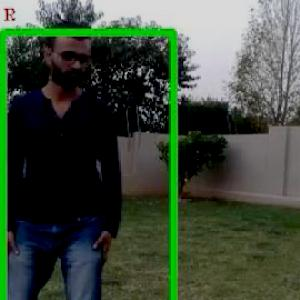follow: (10, 21, 121, 299)
